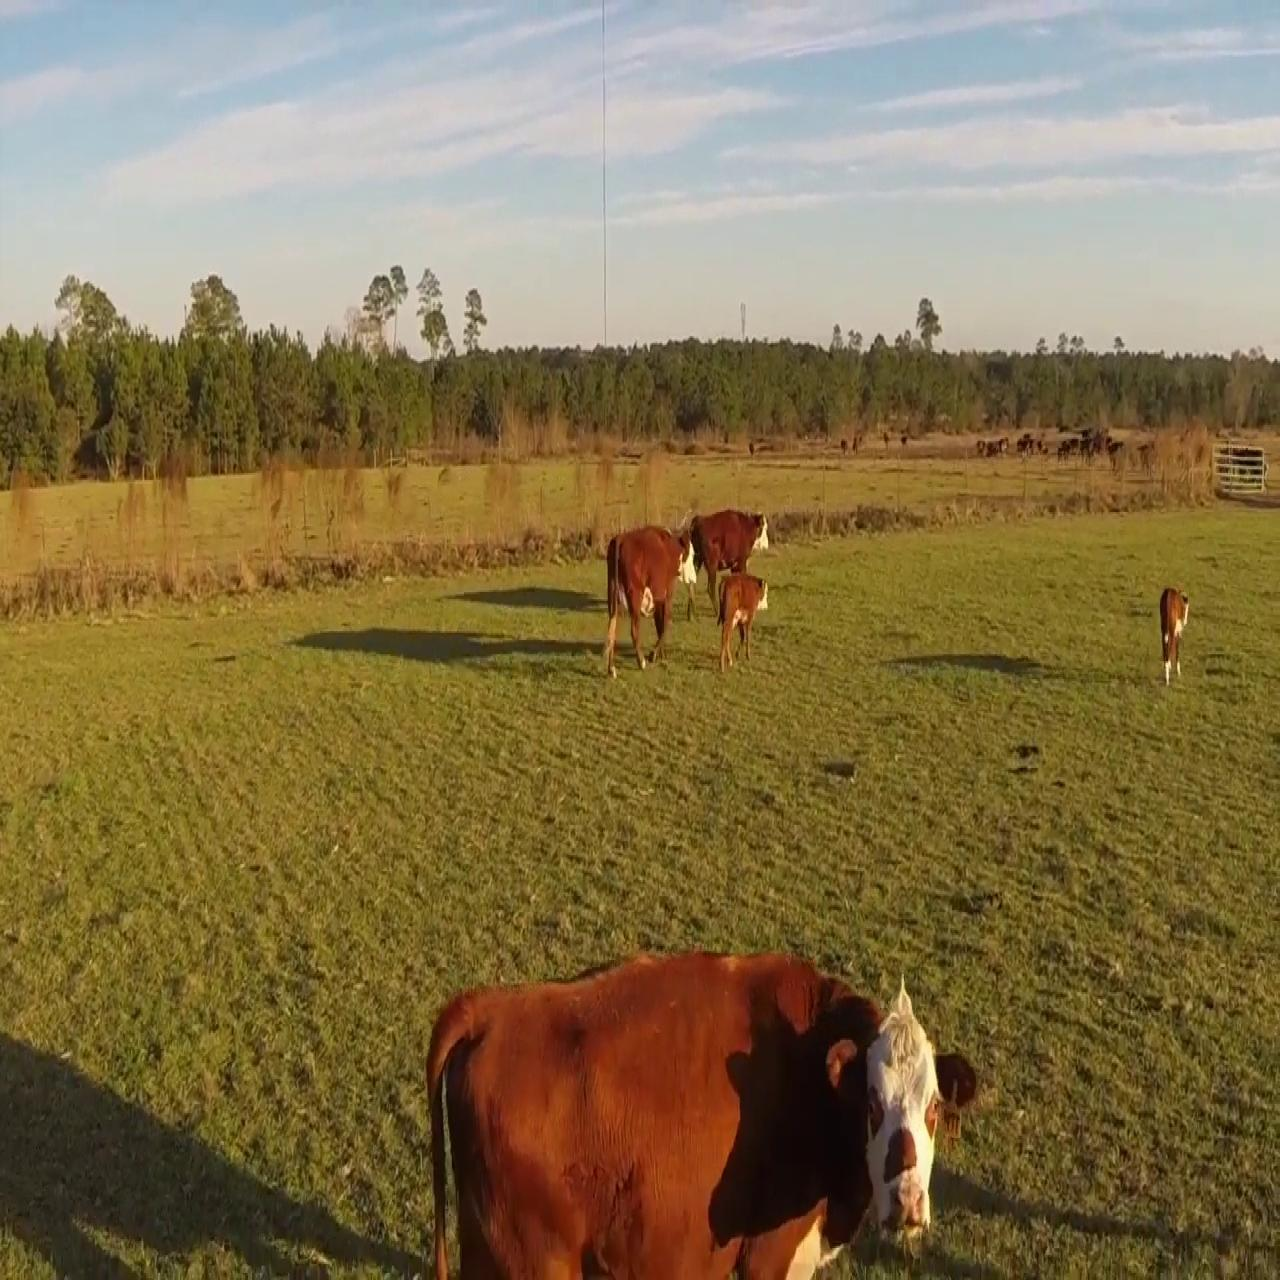cow: (402, 921, 990, 1274), (597, 517, 700, 672), (685, 508, 774, 633), (704, 567, 767, 679), (1156, 583, 1194, 693)
